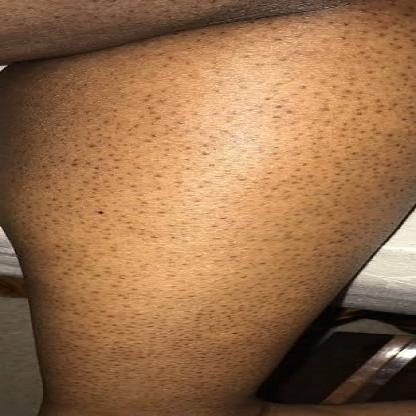Chicken Skin: (0, 1, 416, 409)
